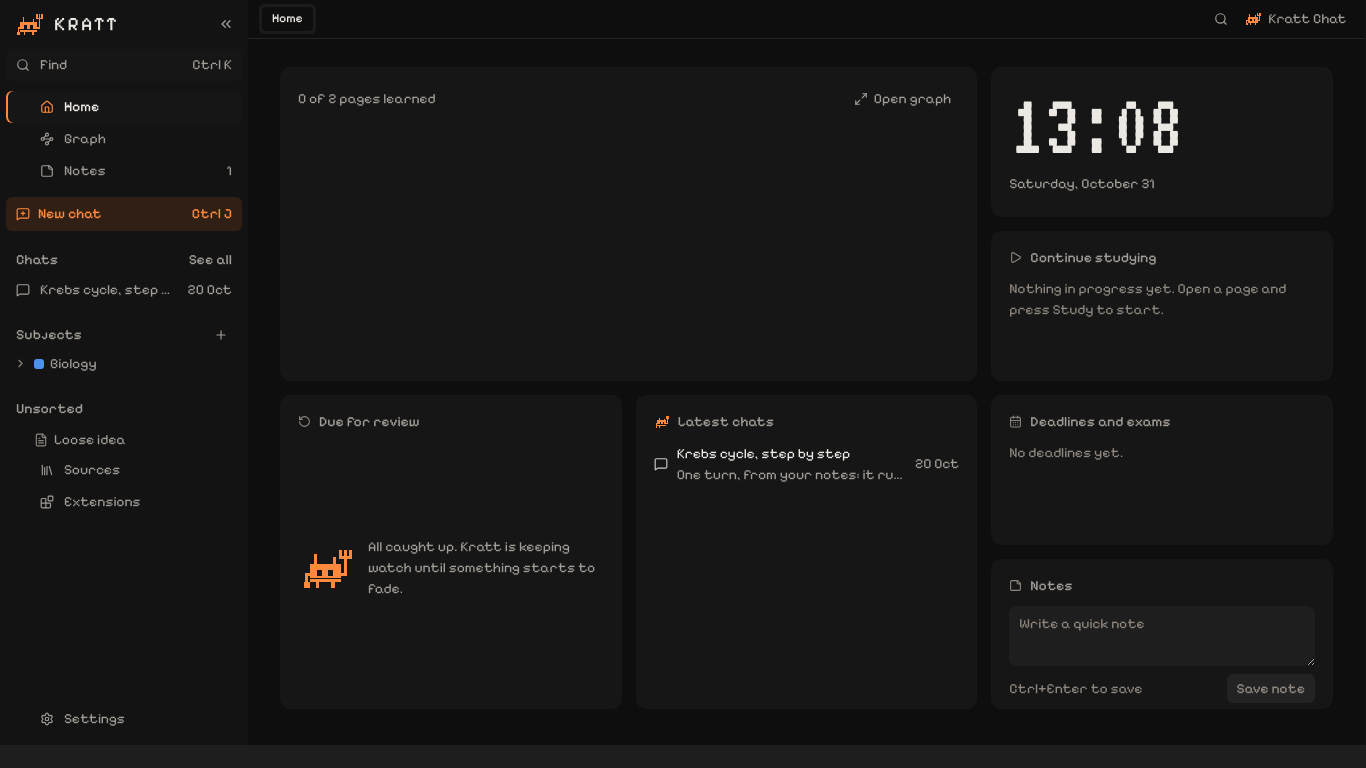
Test: sidebar tree keyboard › selects, focuses and opens a row on click
The width and height of the screenshot is (1366, 768).
Step 1. Click the list item "Biology" → coordinates (54, 364), box [12,354,97,372]
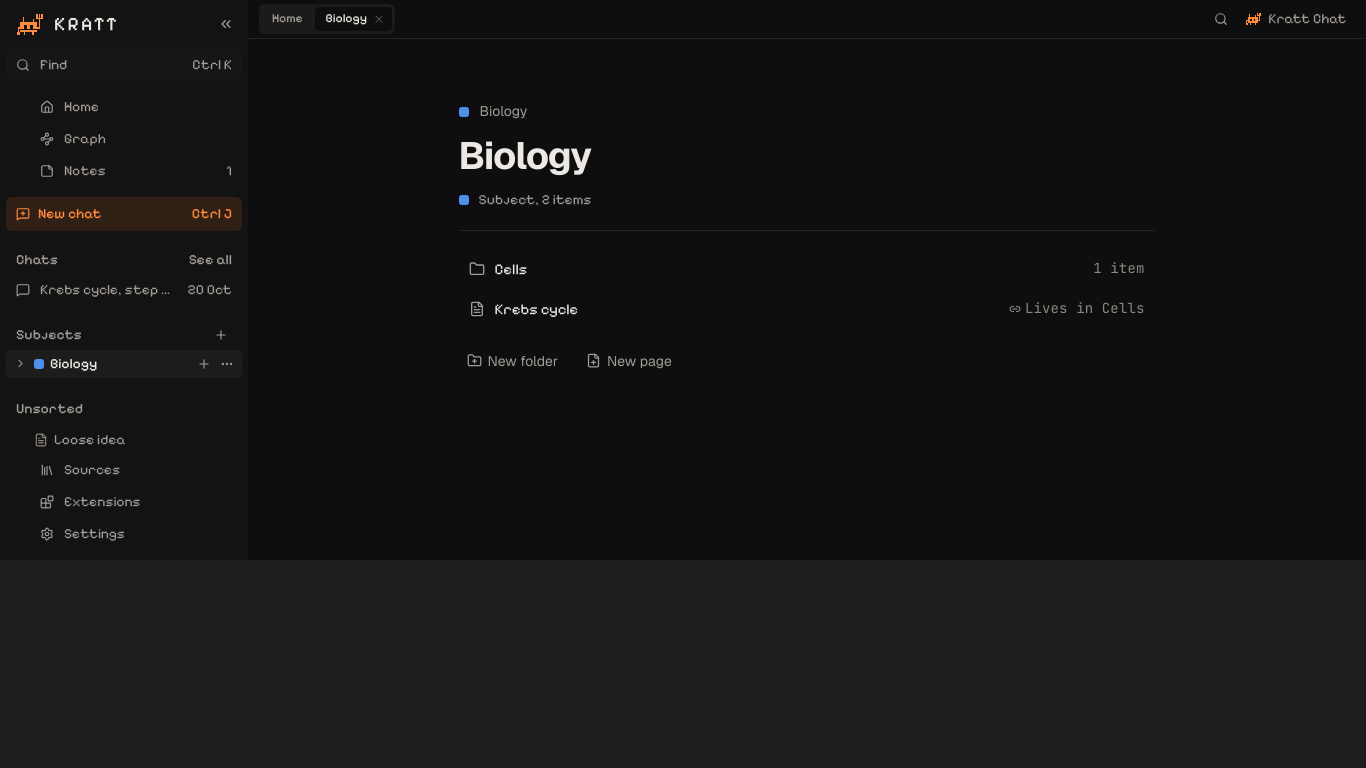
Now the button "Biology" is shown, box [476,100,530,123]
